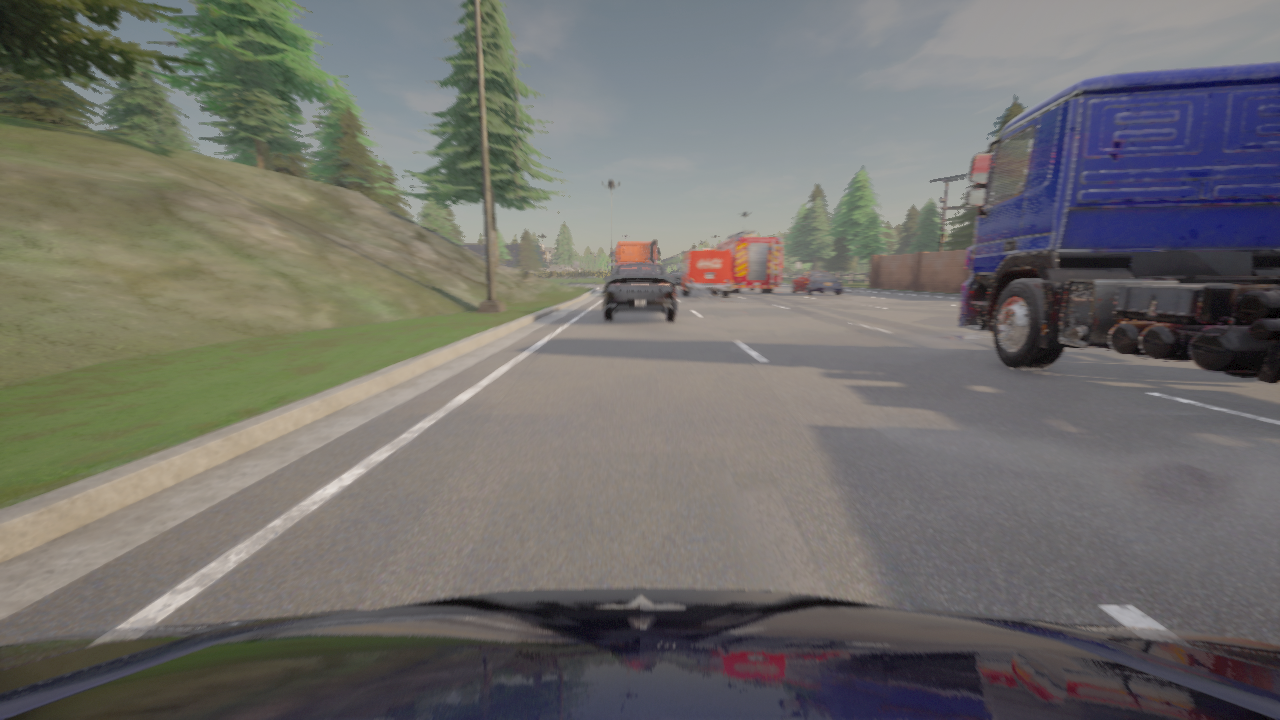cyclist: (0, 588, 1279, 719), (959, 61, 1279, 383), (603, 263, 676, 320), (716, 229, 781, 292), (678, 249, 733, 296), (791, 271, 842, 294), (612, 240, 659, 264), (669, 270, 682, 284)
